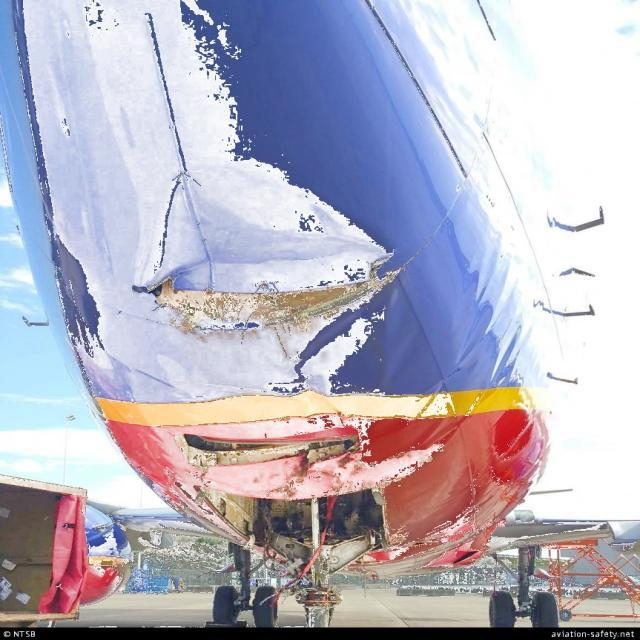crack: (356, 249, 406, 288)
